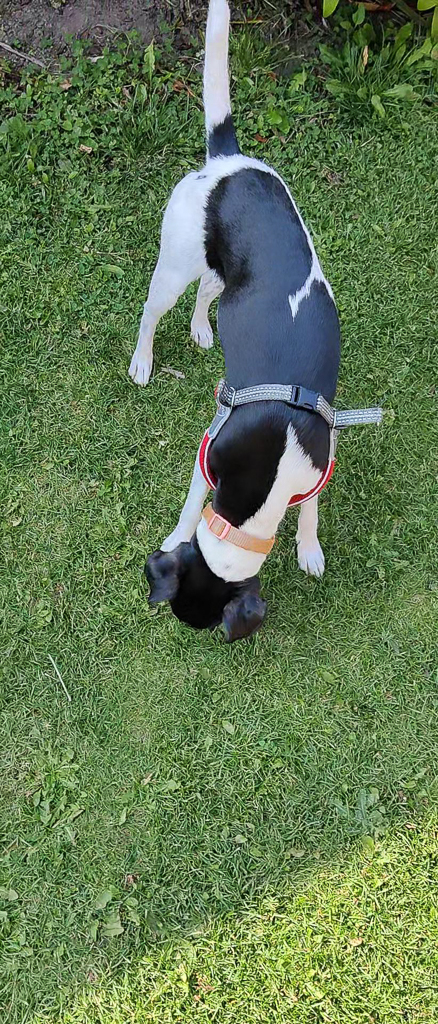Dog: (118, 0, 401, 643)
